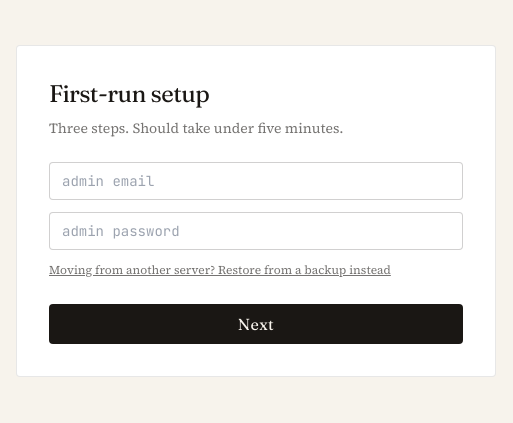
Scenario: SetupPage restore mode › hides the wizard Next button while the restore panel is open
Click the button "Moving from another server? Restore from a backup instead": (220, 270) [49,262,391,278]
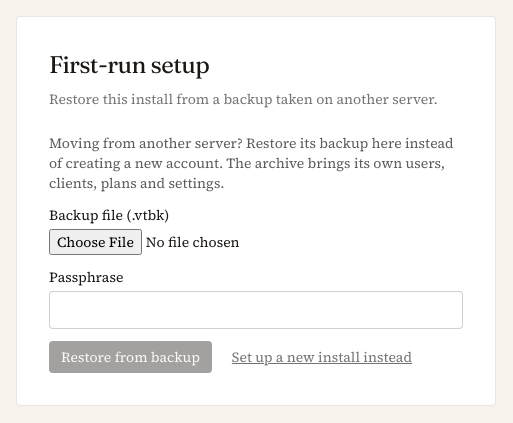
Expected: the button "Restore from backup" is shown, [49,341,212,373]
Expected: the button "Next" is gone
Leaving restore mode brings the wizard controls back.
Click the button "Set up a new install instead": (322, 357) [220,341,424,373]
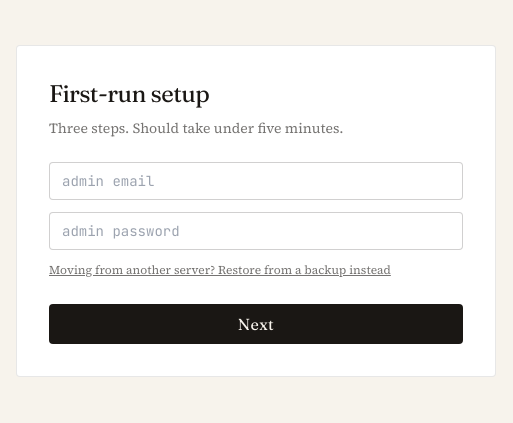
Expected: the button "Next" is shown, [49,304,463,344]
